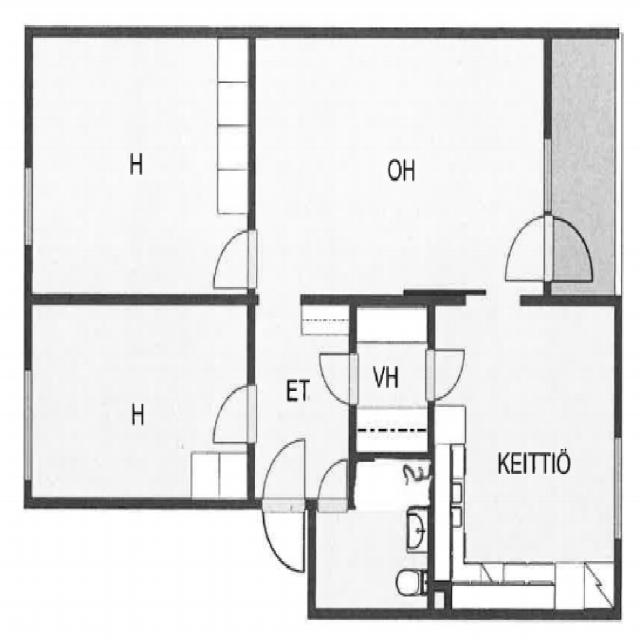door: (258, 432, 306, 579), (502, 215, 598, 283), (198, 231, 258, 288), (211, 390, 262, 445), (316, 346, 356, 412), (428, 347, 465, 403), (313, 454, 347, 508)
window: (612, 430, 626, 542), (20, 365, 32, 484), (23, 163, 37, 246), (544, 138, 554, 215)
zone: (251, 36, 540, 298), (26, 36, 253, 301), (431, 303, 614, 611), (26, 301, 251, 504), (250, 300, 346, 504), (316, 467, 432, 612), (353, 299, 427, 455)
